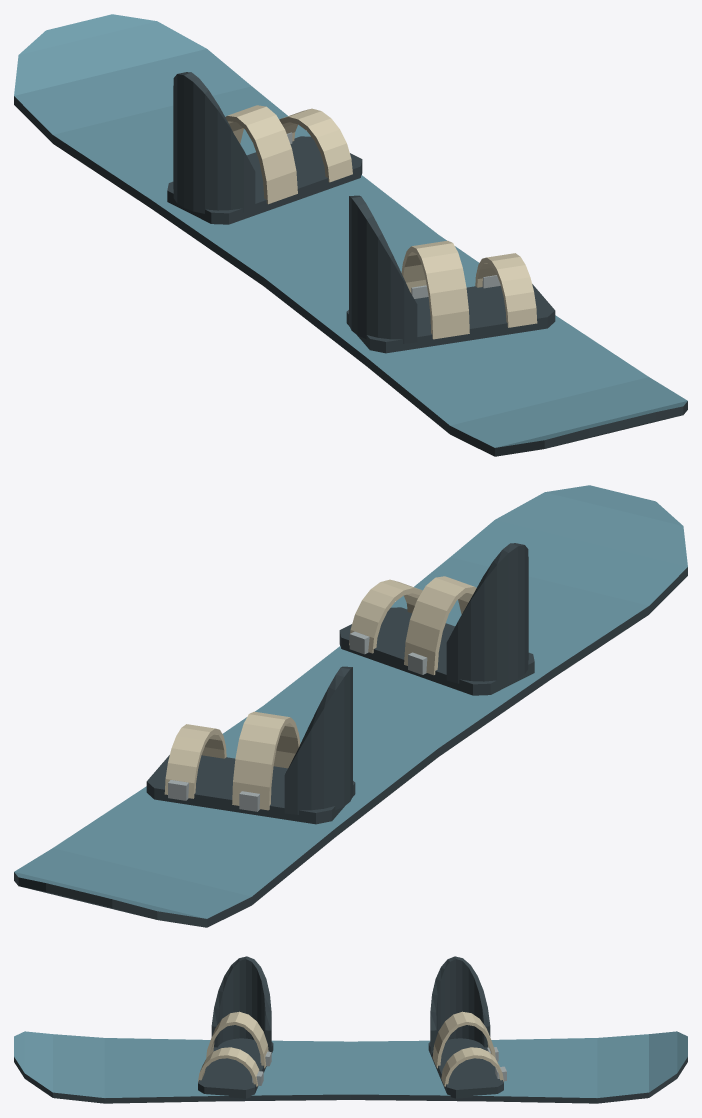
The picture shows the model from 3 angles, top to bottom: view 1: azimuth 30°, elevation 25°; view 2: azimuth 150°, elevation 25°; view 3: azimuth 270°, elevation 25°; orthographic projection. The views are drawn at different scales.
Parts seen in each view (by area): view 1: WholeWideSidecutSnowboard, Rear_WholeOpenCurvedHighback, Front_WholeOpenCurvedHighback, Front_AnkleWholeArchedStrap, Front_WholeInsetFootbed, Rear_WholeInsetFootbed, Rear_AnkleWholeArchedStrap, Front_ToeWholeArchedStrap, Rear_ToeWholeArchedStrap; view 2: WholeWideSidecutSnowboard, Front_WholeOpenCurvedHighback, Rear_WholeOpenCurvedHighback, Rear_WholeInsetFootbed, Rear_AnkleWholeArchedStrap, Front_WholeInsetFootbed, Front_AnkleWholeArchedStrap, Rear_ToeWholeArchedStrap, Front_ToeWholeArchedStrap; view 3: WholeWideSidecutSnowboard, Rear_WholeOpenCurvedHighback, Front_WholeOpenCurvedHighback, Rear_WholeInsetFootbed, Front_WholeInsetFootbed, Rear_AnkleWholeArchedStrap, Front_AnkleWholeArchedStrap, Rear_ToeWholeArchedStrap, Front_ToeWholeArchedStrap.
Boxes of the visible parts, <box> form: WholeWideSidecutSnowboard: <box>14,14,687,456</box>; Rear_WholeOpenCurvedHighback: <box>173,72,255,213</box>; Front_WholeOpenCurvedHighback: <box>349,195,417,343</box>; Front_AnkleWholeArchedStrap: <box>401,240,469,339</box>; Front_WholeInsetFootbed: <box>346,284,555,353</box>; Rear_WholeInsetFootbed: <box>167,136,362,224</box>; Rear_AnkleWholeArchedStrap: <box>225,105,297,204</box>; Front_ToeWholeArchedStrap: <box>475,253,537,327</box>; Rear_ToeWholeArchedStrap: <box>279,108,352,182</box>; WholeWideSidecutSnowboard: <box>14,485,687,927</box>; Front_WholeOpenCurvedHighback: <box>446,543,528,684</box>; Rear_WholeOpenCurvedHighback: <box>284,666,352,814</box>; Rear_WholeInsetFootbed: <box>146,755,355,824</box>; Rear_AnkleWholeArchedStrap: <box>232,711,300,810</box>; Front_WholeInsetFootbed: <box>339,607,534,695</box>; Front_AnkleWholeArchedStrap: <box>404,576,476,675</box>; Rear_ToeWholeArchedStrap: <box>164,724,226,798</box>; Front_ToeWholeArchedStrap: <box>349,579,422,653</box>; WholeWideSidecutSnowboard: <box>14,1031,687,1103</box>; Rear_WholeOpenCurvedHighback: <box>430,956,490,1054</box>; Front_WholeOpenCurvedHighback: <box>211,956,271,1051</box>; Rear_WholeInsetFootbed: <box>428,1038,503,1098</box>; Front_WholeInsetFootbed: <box>198,1038,273,1098</box>; Rear_AnkleWholeArchedStrap: <box>432,1011,495,1068</box>; Front_AnkleWholeArchedStrap: <box>206,1011,268,1068</box>; Rear_ToeWholeArchedStrap: <box>441,1047,503,1086</box>; Front_ToeWholeArchedStrap: <box>198,1047,259,1086</box>.
Size of the model in its own units: 0.33 by 0.235 by 1.56.
